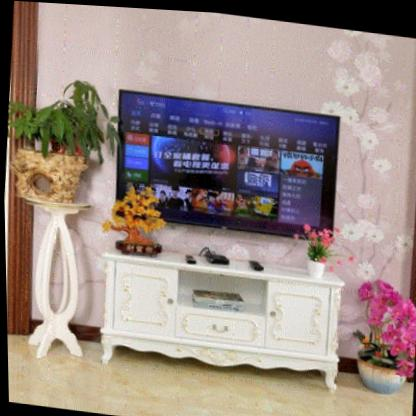TV stand: (94, 238, 347, 391)
